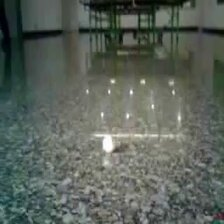w: (101, 136, 116, 153)
